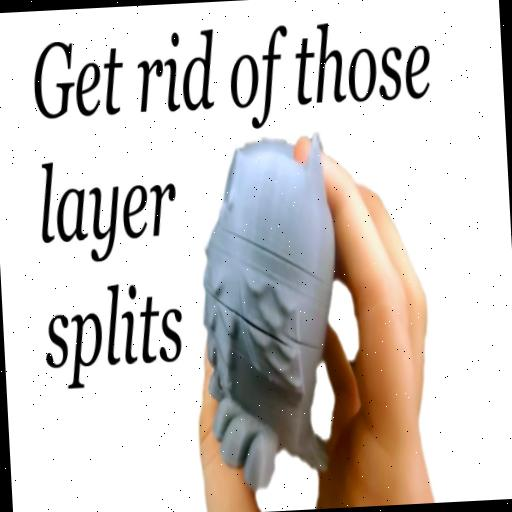cracks: (216, 218, 333, 300), (195, 278, 298, 368), (282, 329, 330, 364)
